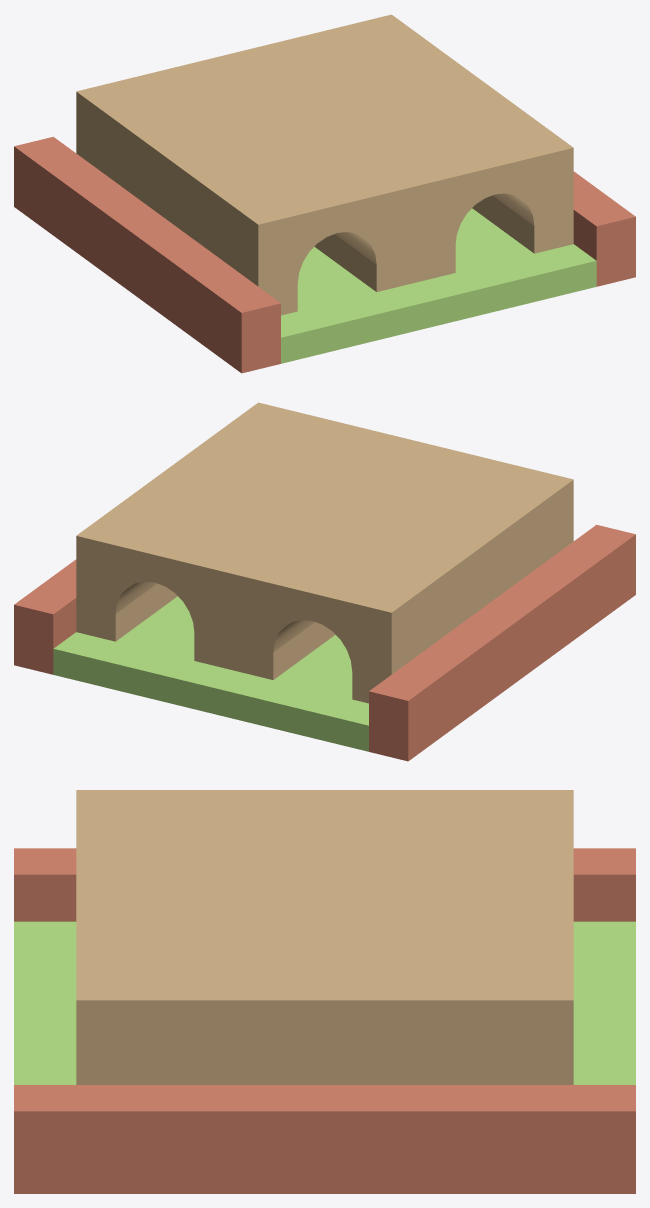
The model's file is Tunnel_double_01.glb.
The picture shows the model from 3 angles, top to bottom: view 1: azimuth 30°, elevation 25°; view 2: azimuth 150°, elevation 25°; view 3: azimuth 270°, elevation 25°; orthographic projection. The views are drawn at different scales.
Visible parts, largest first — view 1: Mesh1 Tunnel_double Model; view 2: Mesh1 Tunnel_double Model; view 3: Mesh1 Tunnel_double Model.
Boxes of the visible parts, x1,y1,x2,y2 form: Mesh1 Tunnel_double Model: (14,14,635,373); Mesh1 Tunnel_double Model: (14,402,635,761); Mesh1 Tunnel_double Model: (14,790,635,1193).
Bounding box in the file's own units: 3 × 0.89 × 3.
